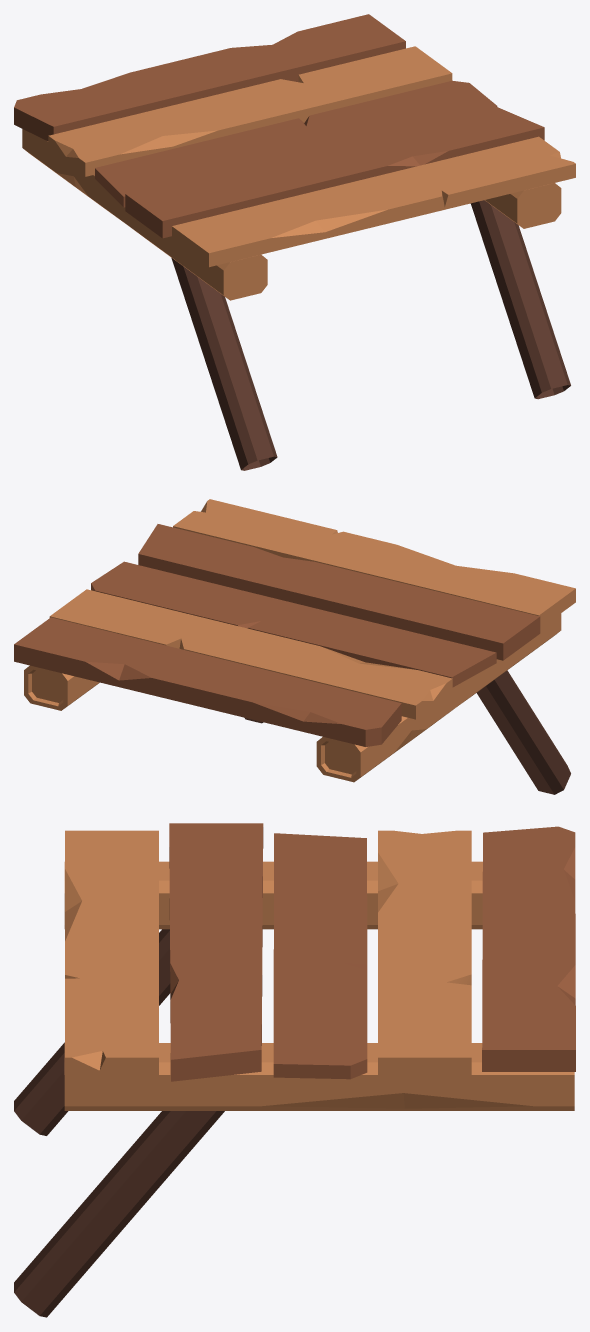
Rendered from wood-platform.gltf.
3 renders of one model, top to bottom at view 1: azimuth 30°, elevation 25°; view 2: azimuth 150°, elevation 25°; view 3: azimuth 270°, elevation 25°, orthographic. The views are drawn at different scales.
Visible parts, largest first — view 1: Bridge.001; view 2: Bridge.001; view 3: Bridge.001.
Part boxes in pixels (x1,y1,x2,y2): Bridge.001: (14, 14, 575, 470); Bridge.001: (14, 499, 575, 794); Bridge.001: (14, 823, 575, 1317).
Bounding box in the file's own units: 2.09 × 1.16 × 2.09.
1 material, 1 textured.
